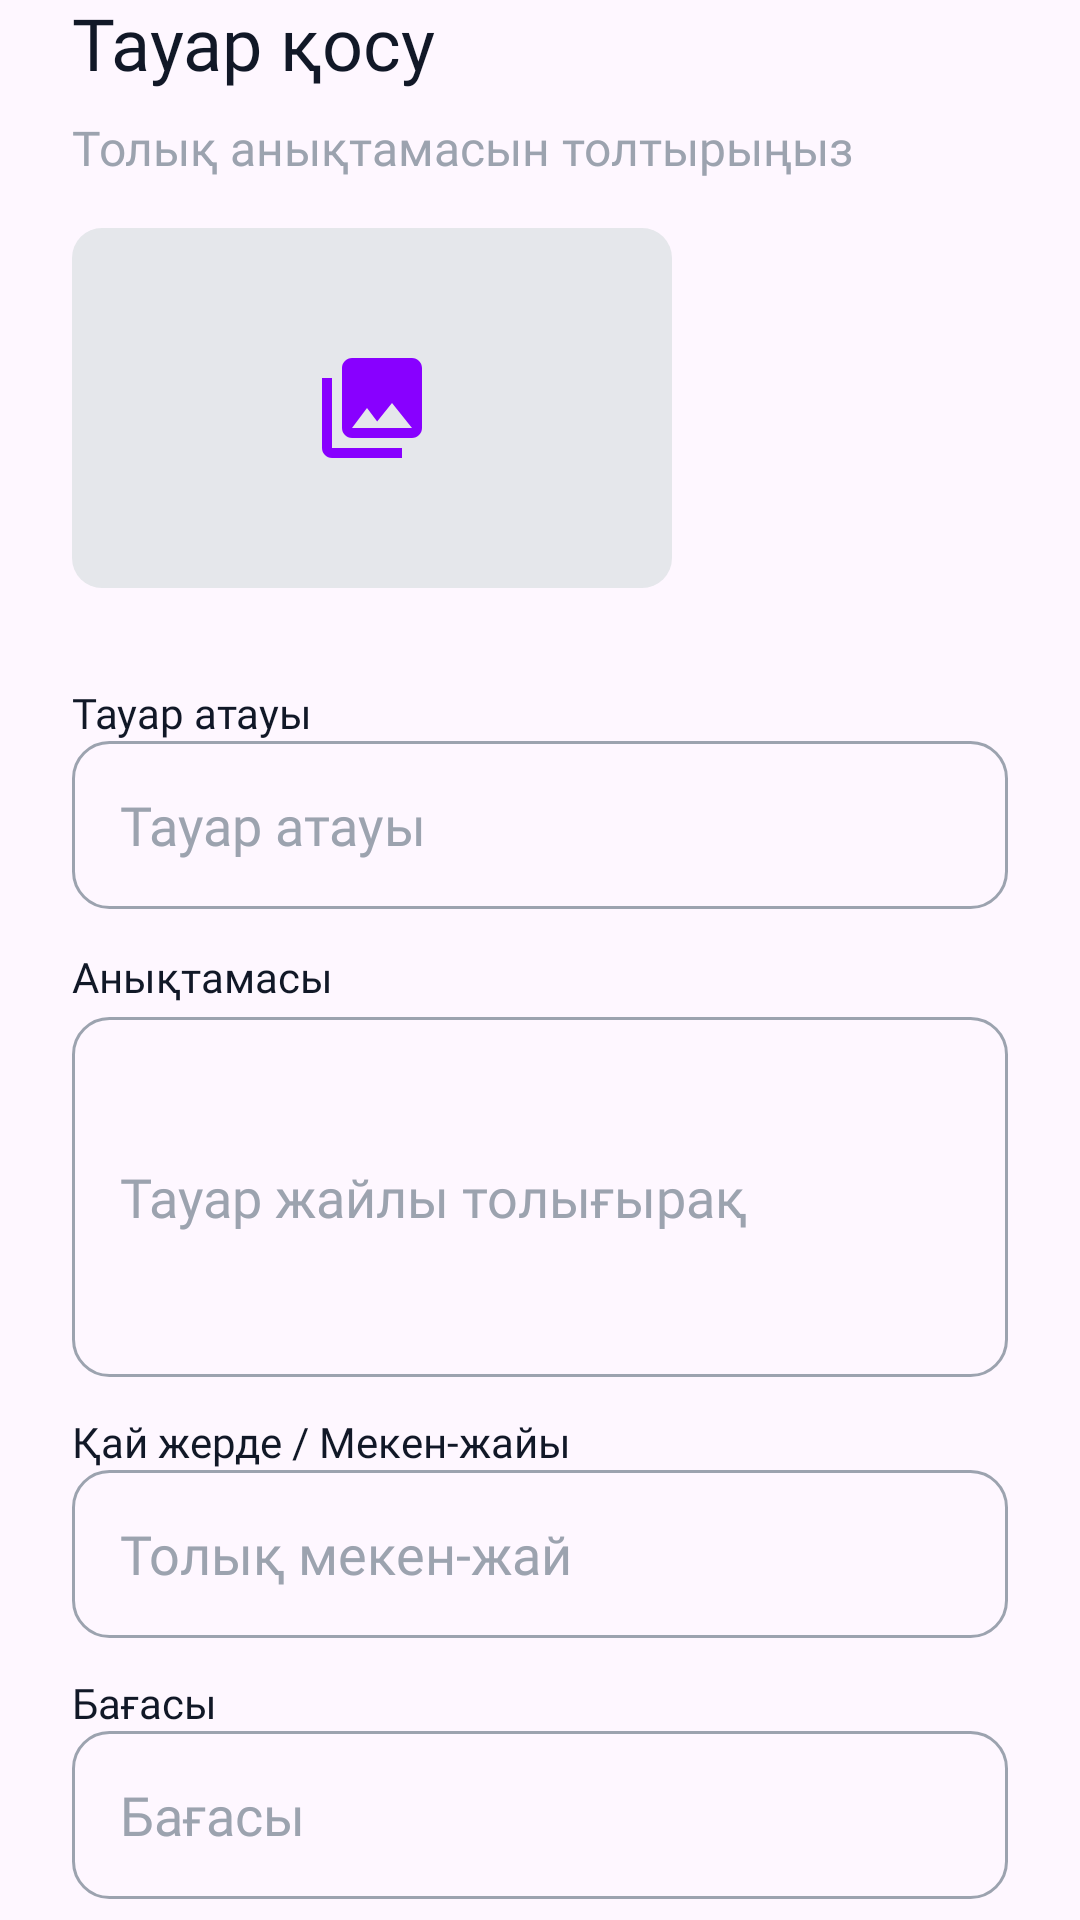

Where to tap for icons on this 1080w x 1920h app screen, as (x=x, y=y):
gallery: (x=372, y=408)
